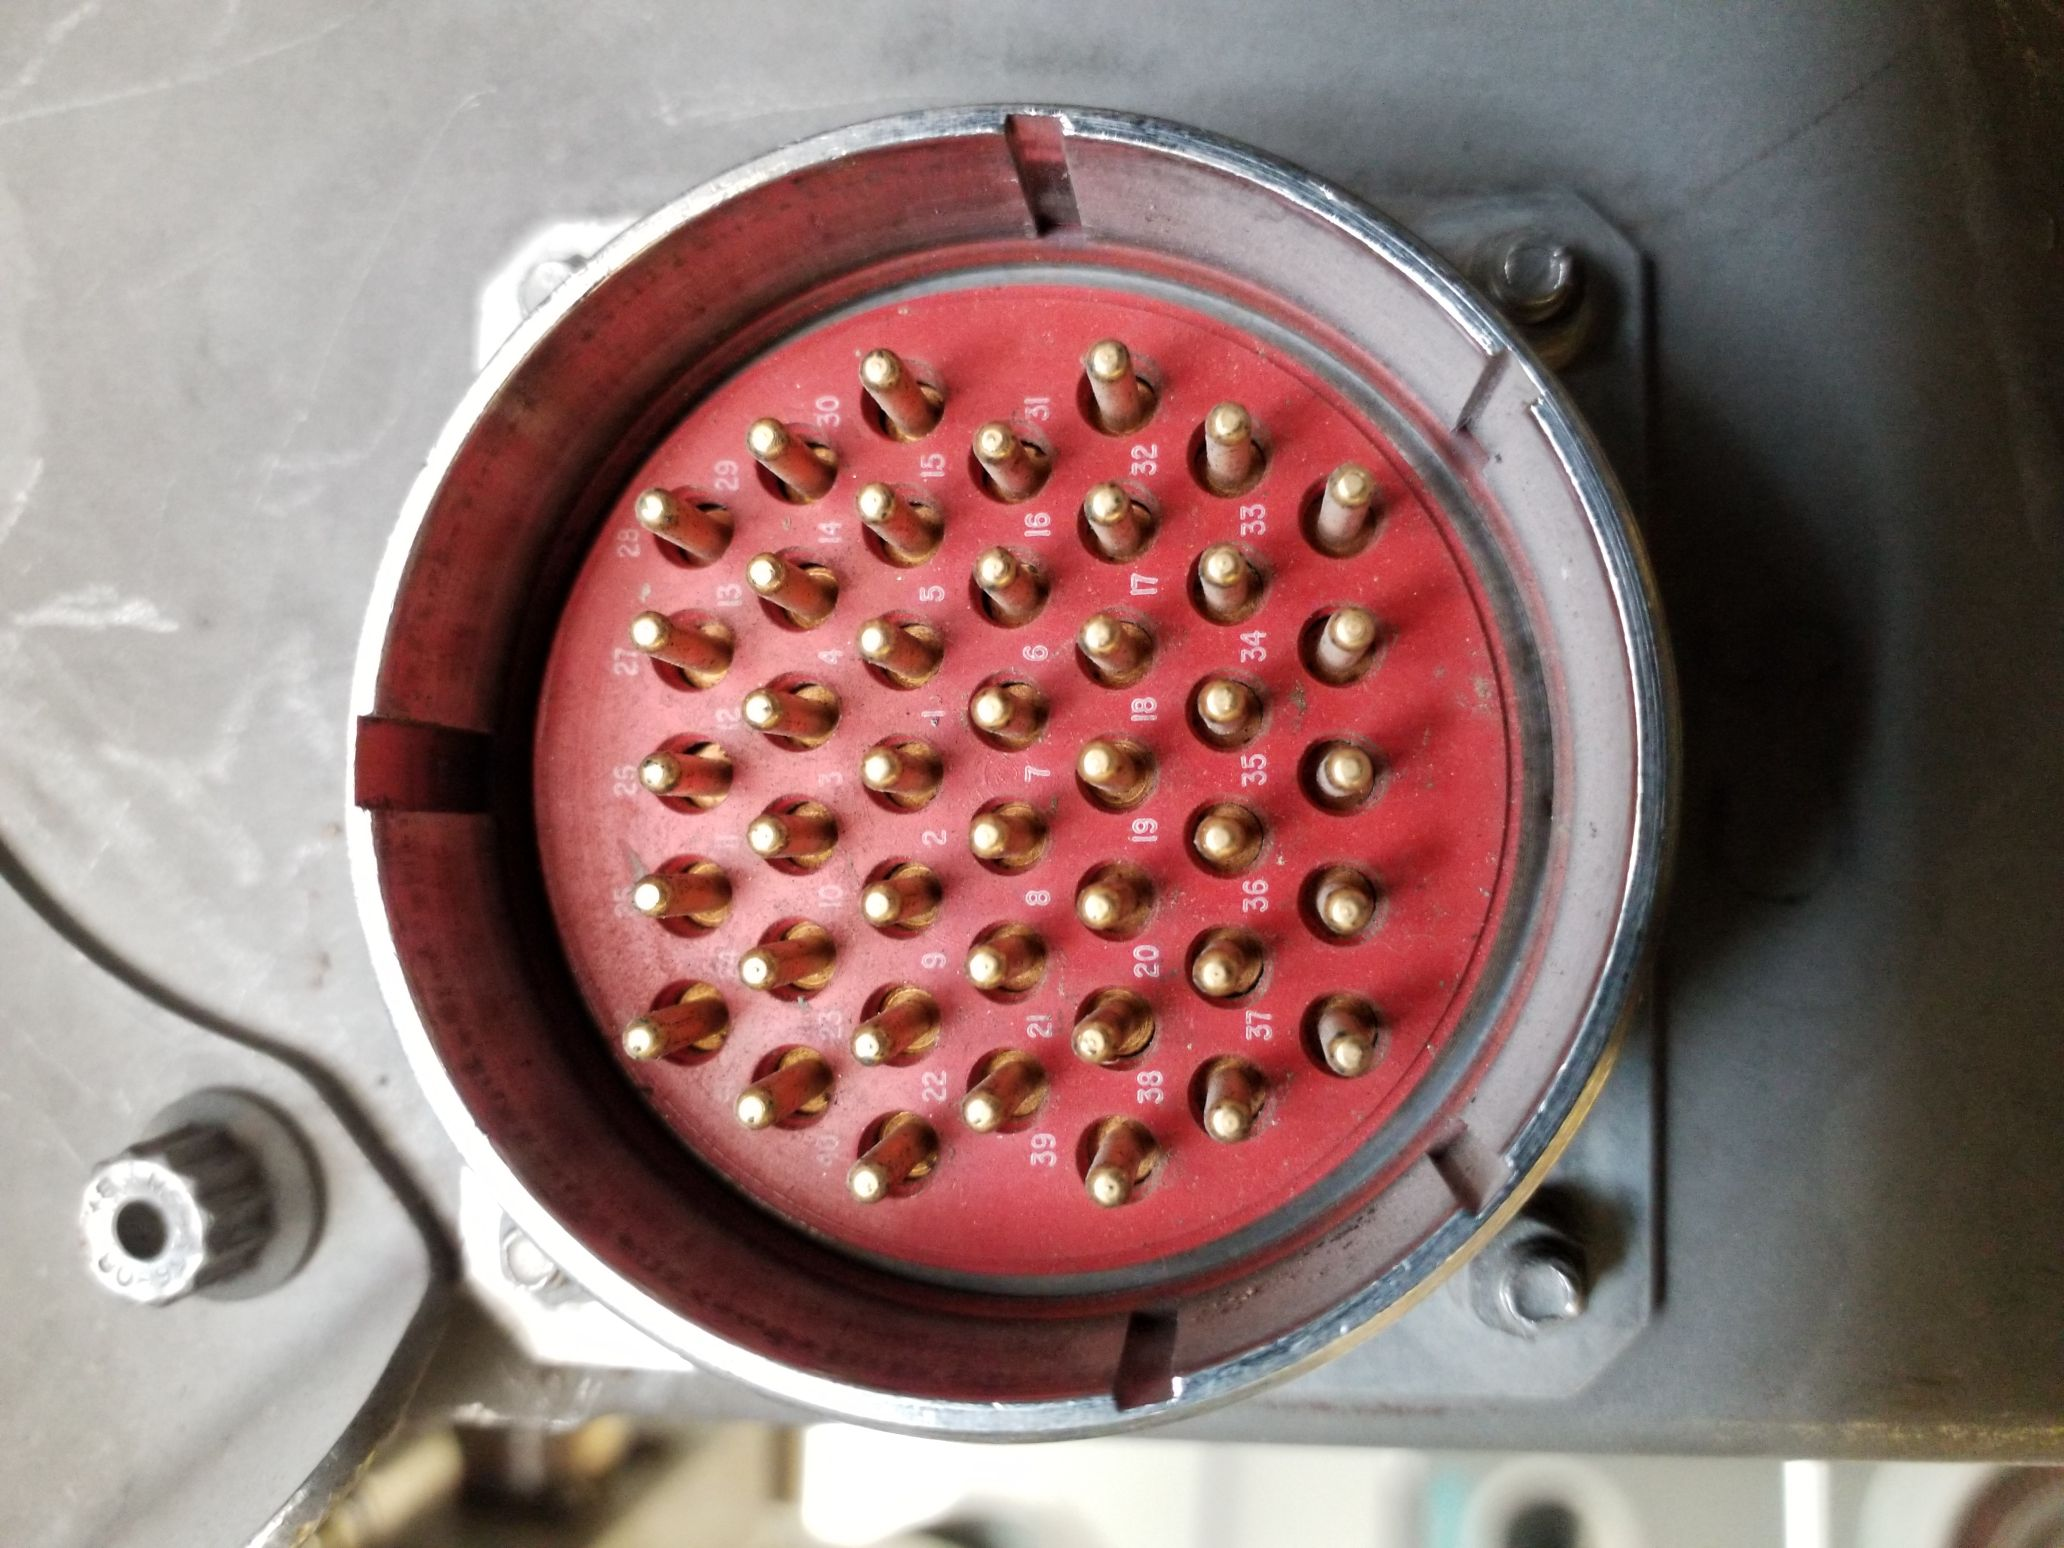outlet: (328, 78, 1661, 1457)
